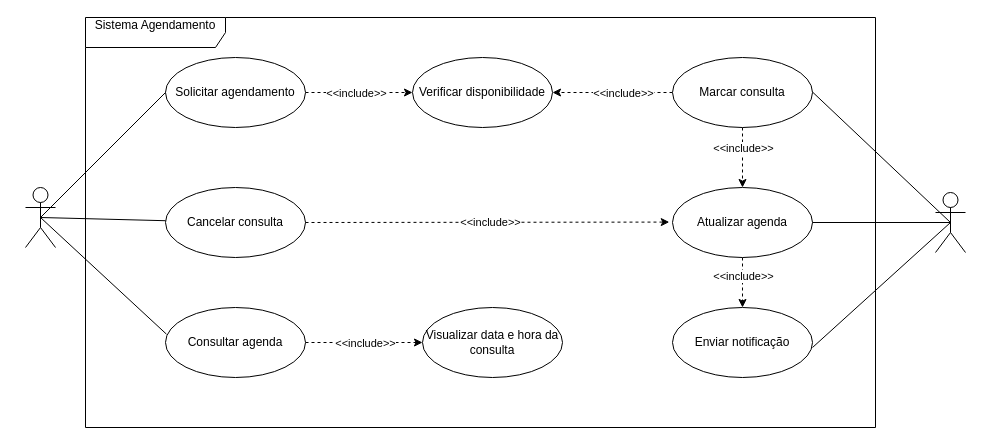
The diagram is 995 pixels wide and 445 high, and some of its shapes have lost their labels. Here are the shapes that lost their labels. From the top down, the centre of each, then its label:
(x=40, y=217): Paciente
(x=950, y=222): Atendente
